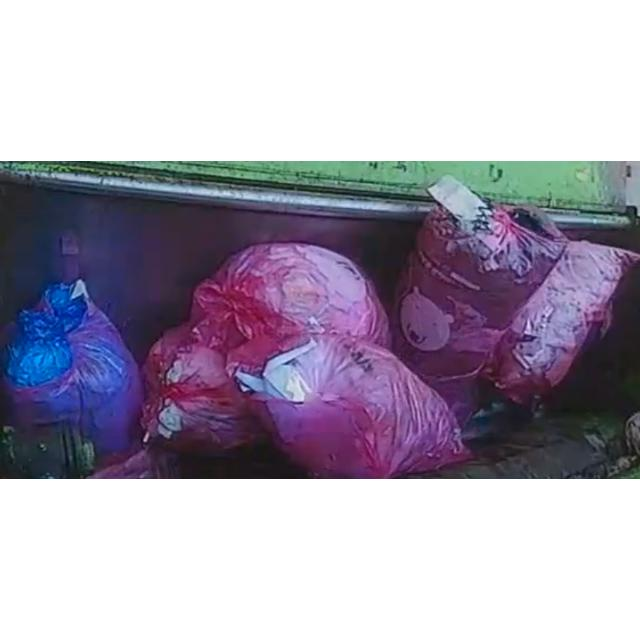other_trashbag: (395, 176, 569, 427), (239, 336, 469, 478), (191, 244, 389, 377), (0, 280, 141, 454), (491, 241, 640, 401), (141, 324, 266, 450)
